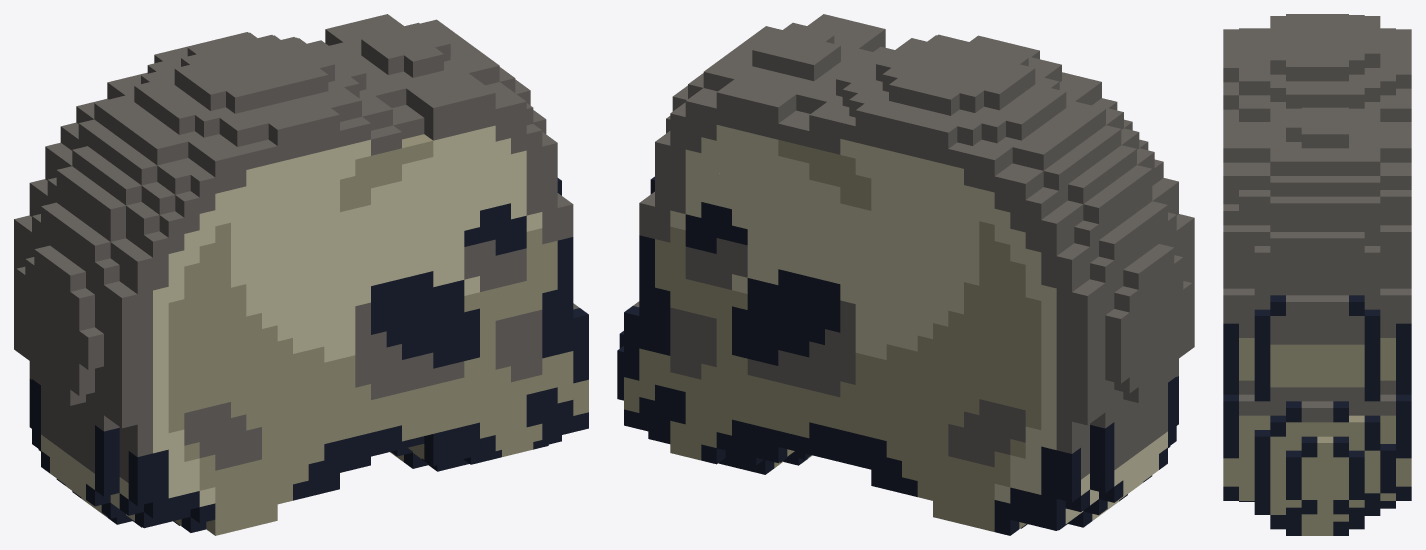
File: Bones3.glb
3 views of the same model, side by side, from view 1: azimuth 30°, elevation 25°; view 2: azimuth 150°, elevation 25°; view 3: azimuth 270°, elevation 25° (orthographic). The views are drawn at different scales.
Visible parts, largest first — view 1: q0; view 2: q0; view 3: q0.
Boxes of the visible parts, x1,y1,x2,y2 form: q0: [14, 14, 588, 535]; q0: [617, 14, 1194, 535]; q0: [1223, 14, 1411, 535].
Bounding box in the file's own units: 33 × 26 × 12.
1 material, 1 textured.
